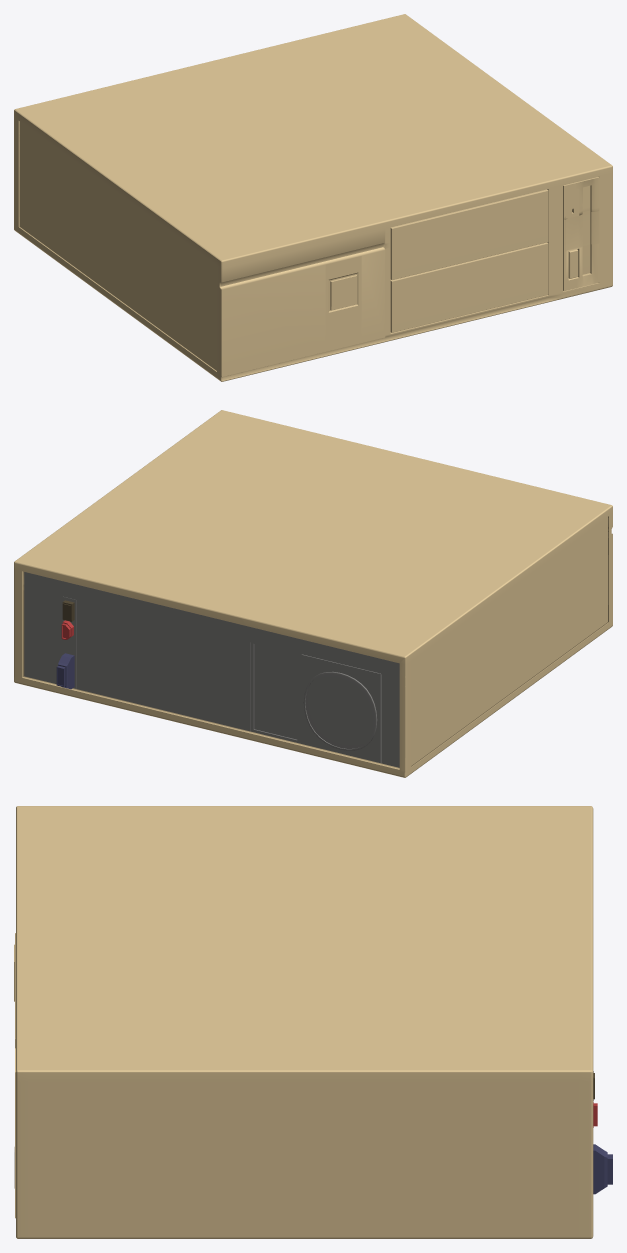
The model's file is terminal.fbx.
3 views of the same model, one above another, from view 1: azimuth 30°, elevation 25°; view 2: azimuth 150°, elevation 25°; view 3: azimuth 270°, elevation 25° (orthographic). The views are drawn at different scales.
Parts seen in each view (by area): view 1: pCube232; view 2: pCube232; view 3: pCube232.
Part boxes in pixels (<box>): pCube232: <box>14,14,612,381</box>; pCube232: <box>14,410,612,777</box>; pCube232: <box>14,806,612,1238</box>.
Size of the model in its own units: 10.03 by 2.99 by 9.55.
1 material, 1 textured.
